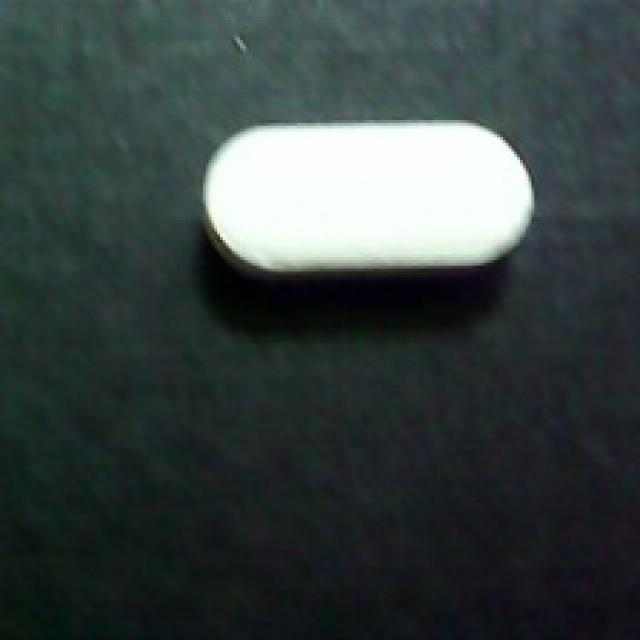no-defect: (197, 114, 540, 291)
